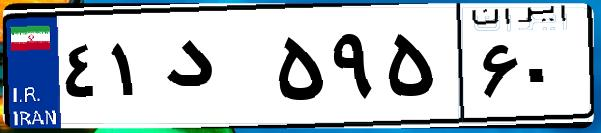0: (525, 38, 570, 115)
1: (110, 28, 158, 98)
4: (57, 26, 110, 100)
5: (270, 28, 330, 110), (385, 28, 445, 110)
6: (475, 38, 525, 113)
9: (330, 28, 385, 110)
د: (158, 20, 270, 120)
